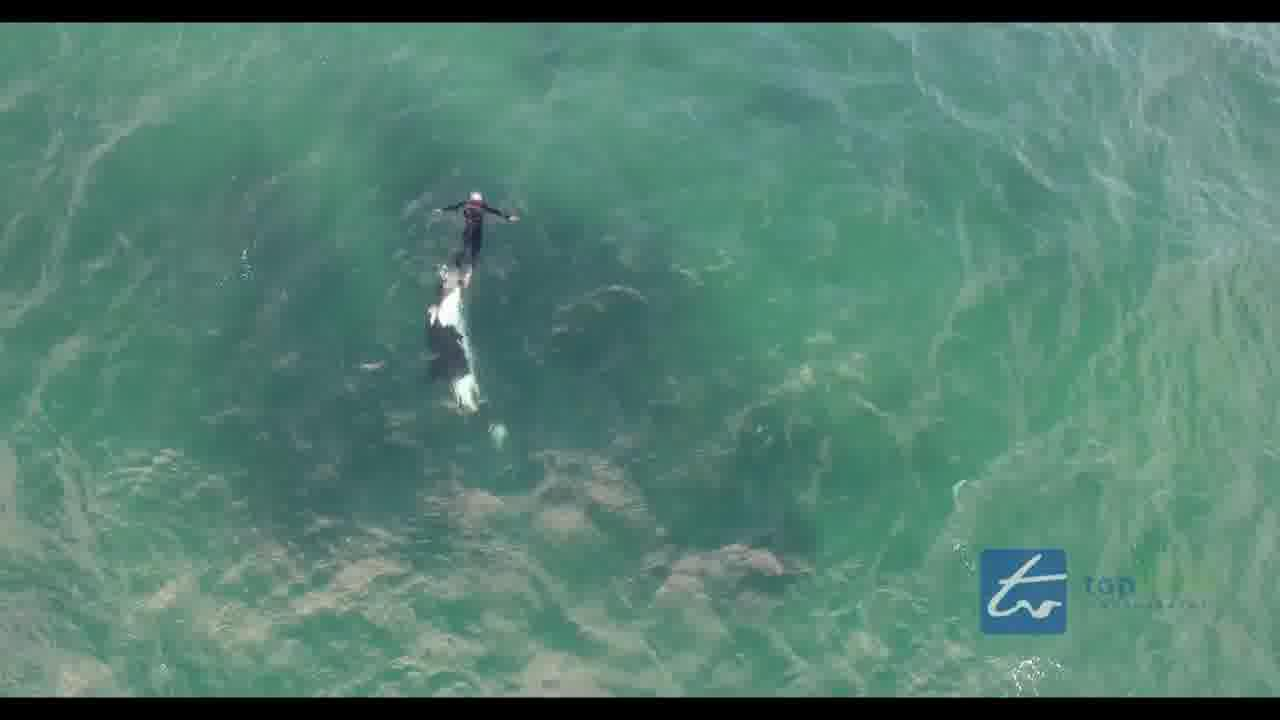swimmer: (452, 177, 494, 284)
